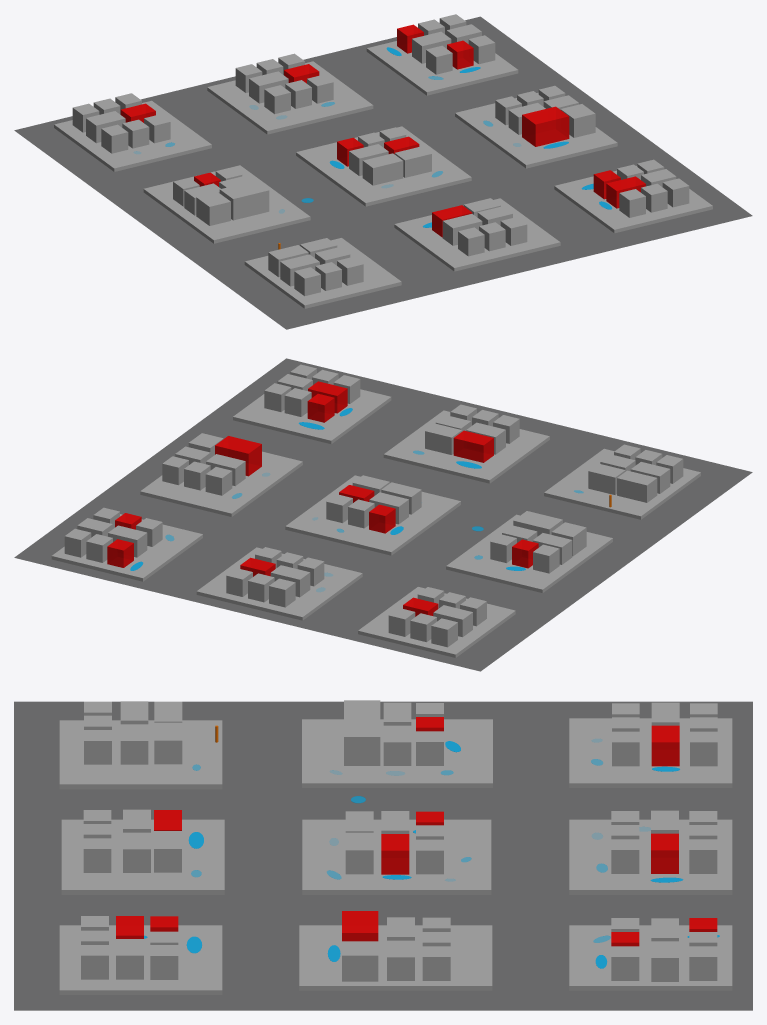
File: Cenário 2.fbx
The picture shows the model from 3 angles, top to bottom: view 1: azimuth 30°, elevation 25°; view 2: azimuth 150°, elevation 25°; view 3: azimuth 270°, elevation 25°; orthographic projection. The views are drawn at different scales.
Parts seen in each view (by area): view 1: pasted__pPlane1, pasted__pCube105, pasted__pCube98, pasted__pCube106, pasted__pCube104, pasted__pCube102, pasted__pCube99, pasted__pCube7, pasted__pCube100, pasted__pCube103, pCube47, pCube58 (+31 smaller); view 2: pasted__pPlane1, pasted__pCube105, pasted__pCube102, pasted__pCube104, pasted__pCube106, pasted__pCube103, pasted__pCube100, pasted__pCube98, pasted__pCube99, pasted__pCube7, pCube47, pCube19 (+36 smaller); view 3: pasted__pPlane1, pasted__pCube105, pasted__pCube104, pasted__pCube98, pasted__pCube100, pasted__pCube102, pasted__pCube106, pasted__pCube99, pasted__pCube103, pasted__pCube7, pCube58, pCube48 (+38 smaller).
Part boxes in pixels (x1,y1,x2,y2): pasted__pPlane1: (14,16,752,329); pasted__pCube105: (296,126,471,206); pasted__pCube98: (207,61,373,134); pasted__pCube106: (455,92,617,168); pasted__pCube104: (143,165,310,243); pasted__pCube102: (394,198,560,271); pasted__pCube99: (54,100,211,171); pasted__pCube7: (366,41,518,95); pasted__pCube100: (244,238,401,308); pasted__pCube103: (554,166,712,233); pCube47: (522,106,569,146); pCube58: (219,180,269,220); pasted__pPlane1: (14,358,752,671); pasted__pCube105: (285,475,460,555); pasted__pCube102: (383,410,549,483); pasted__pCube104: (446,514,612,593); pasted__pCube106: (140,451,302,516); pasted__pCube103: (233,389,391,444); pasted__pCube100: (544,448,700,519); pasted__pCube98: (196,547,362,620); pasted__pCube99: (358,587,515,657); pasted__pCube7: (51,514,202,581); pCube47: (215,436,261,476); pCube19: (453,430,493,462); pasted__pPlane1: (14,701,752,1010); pasted__pCube105: (302,819,491,894); pasted__pCube104: (302,719,492,787); pasted__pCube98: (569,819,732,894); pasted__pCube100: (59,720,222,789); pasted__pCube102: (61,819,224,894); pasted__pCube106: (299,925,492,990); pasted__pCube99: (569,718,732,787); pasted__pCube103: (59,925,222,994); pasted__pCube7: (569,925,732,990); pCube58: (344,713,380,765); pCube48: (342,941,378,981).
Size of the model in its own units: 0.2979 by 0.0161 by 0.3013.
